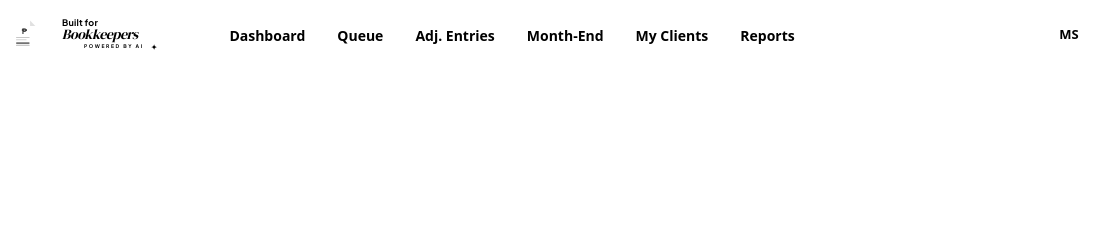
Test: Topbar — Help link (all roles) › shows Help link in dropdown for accountant, links to /accountant/help
Click the button with aria-label "Account menu" at (1069, 35), box [1050,16,1088,54]
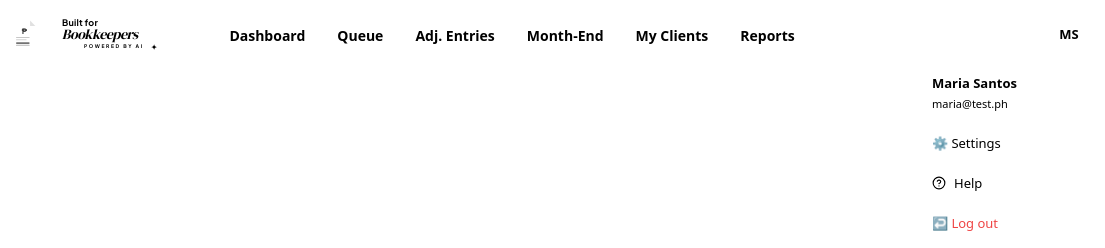
Expected: the link "Help" is shown, [932,174,982,192]
